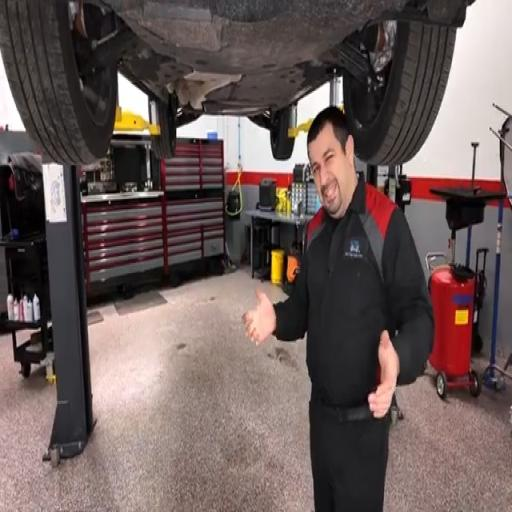tire: (0, 0, 117, 164), (344, 22, 455, 164)
wheel: (0, 0, 117, 164), (344, 22, 455, 164), (148, 94, 177, 159), (269, 107, 295, 160)
